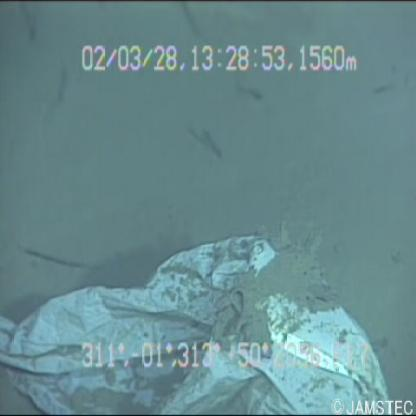Rác: (1, 238, 395, 416)
